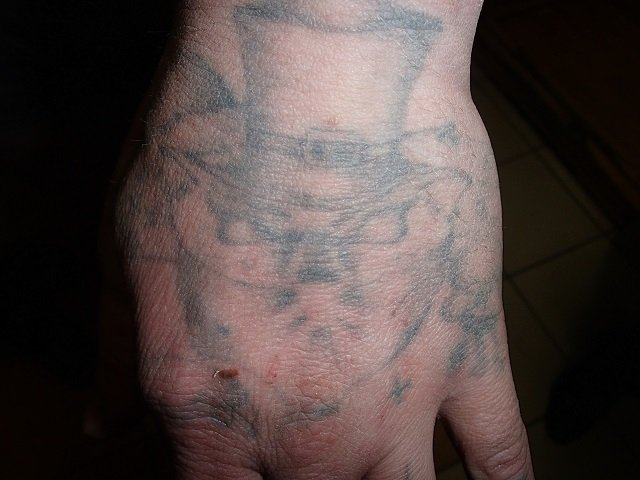tatu8_kot: (130, 1, 504, 397)
